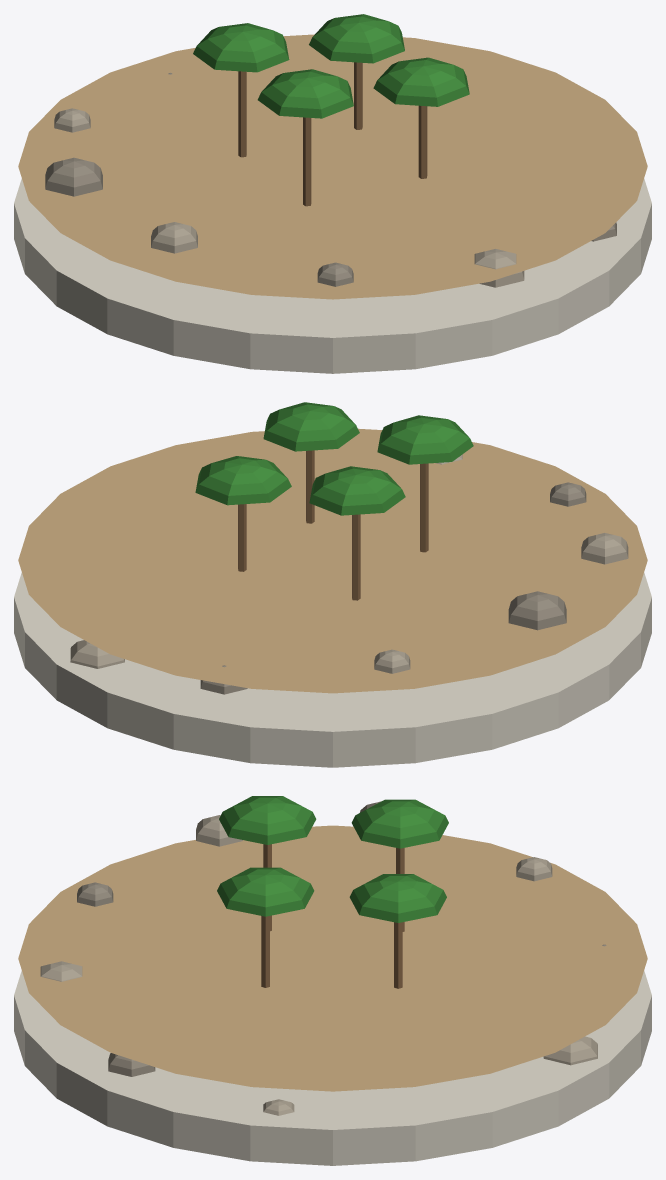
File: rb_boulder.glb
3 views of the same model, one above another, from view 1: azimuth 30°, elevation 25°; view 2: azimuth 150°, elevation 25°; view 3: azimuth 270°, elevation 25° (orthographic).
Visible parts, largest first — view 1: rb_boulder_lod0; view 2: rb_boulder_lod0; view 3: rb_boulder_lod0.
Boxes of the visible parts, bbox=[...] form: rb_boulder_lod0: bbox=[14, 14, 651, 373]; rb_boulder_lod0: bbox=[14, 402, 651, 767]; rb_boulder_lod0: bbox=[14, 796, 651, 1165].
Size of what is drawn, in the model's own units: 30.6 by 10.54 by 30.6.
